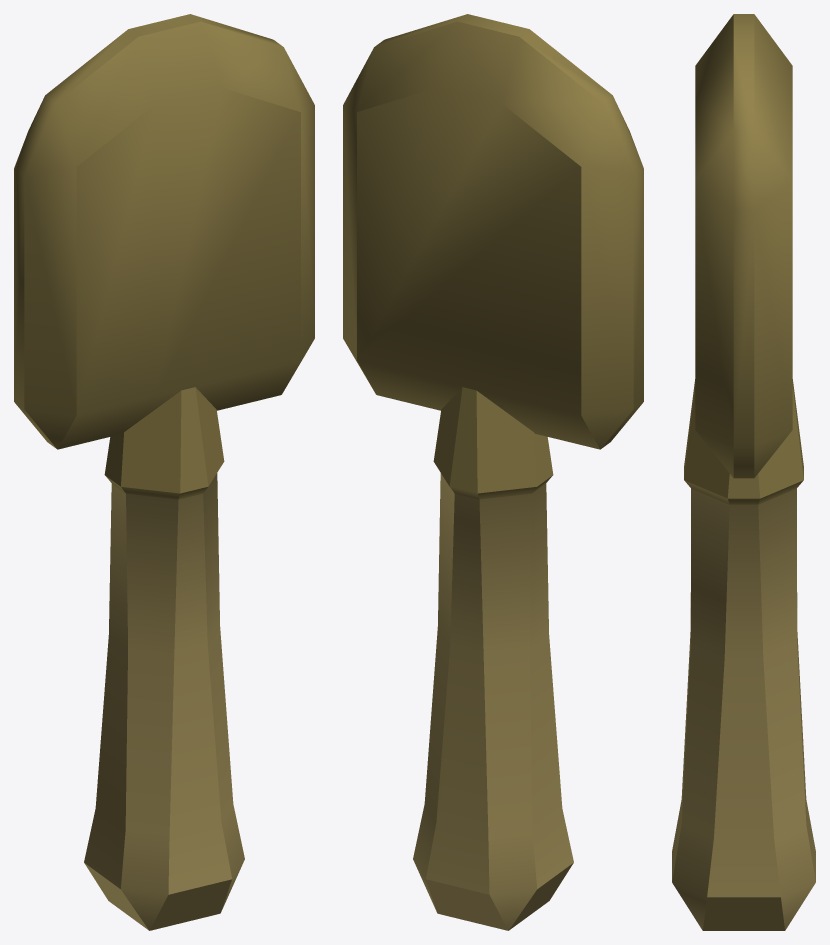
The model's file is quaternius-cube-world-shovel-stone.glb.
The picture shows the model from 3 angles, left to right: view 1: azimuth 30°, elevation 25°; view 2: azimuth 150°, elevation 25°; view 3: azimuth 270°, elevation 25°; orthographic projection.
Visible parts, largest first — view 1: Shovel_Stone; view 2: Shovel_Stone; view 3: Shovel_Stone.
Boxes of the visible parts, box(x1,y1,x2,y2) form: Shovel_Stone: box(14, 14, 314, 930); Shovel_Stone: box(343, 14, 643, 930); Shovel_Stone: box(672, 14, 815, 930).
Bounding box in the file's own units: 0.584 × 1.69 × 0.2499.
1 material, 1 textured.
